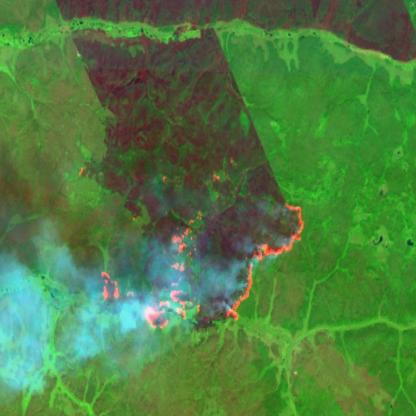fire: (98, 195, 305, 330)
